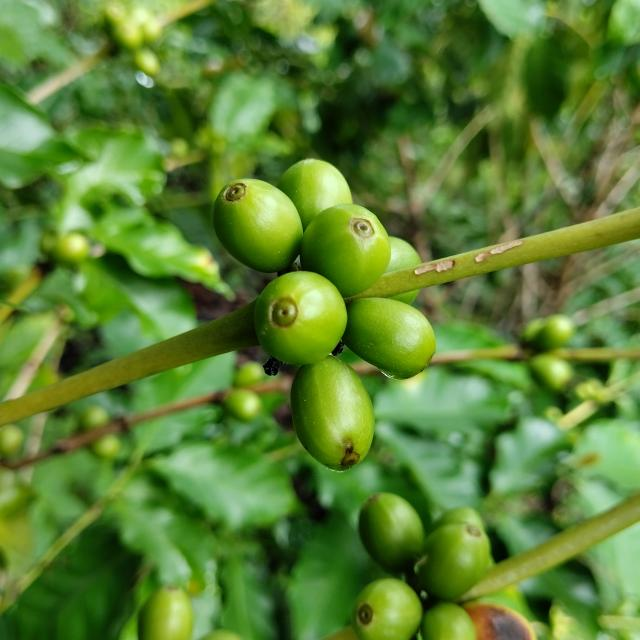green: (291, 356, 375, 471), (254, 271, 348, 365), (300, 204, 391, 297), (213, 178, 303, 272), (342, 298, 436, 380), (415, 524, 492, 602), (278, 158, 353, 229), (359, 493, 425, 572), (352, 579, 423, 640), (138, 587, 193, 640), (422, 604, 477, 640), (385, 236, 421, 273), (434, 508, 486, 532), (390, 290, 419, 304)
